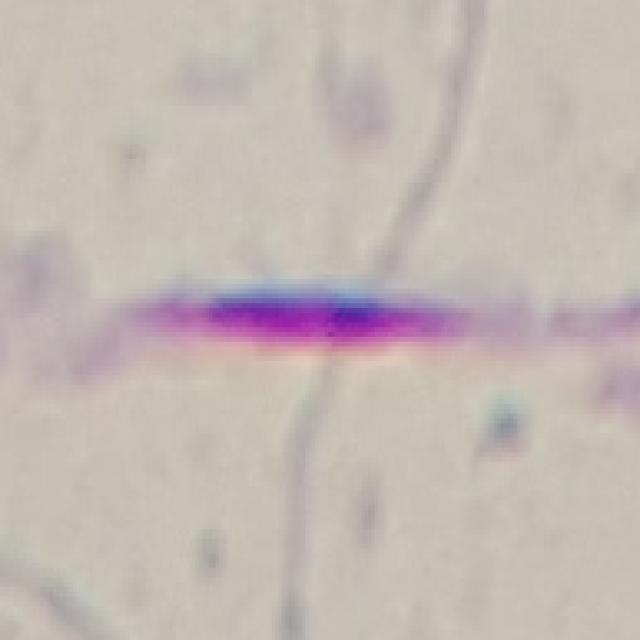non-sperm: (125, 262, 600, 380)
